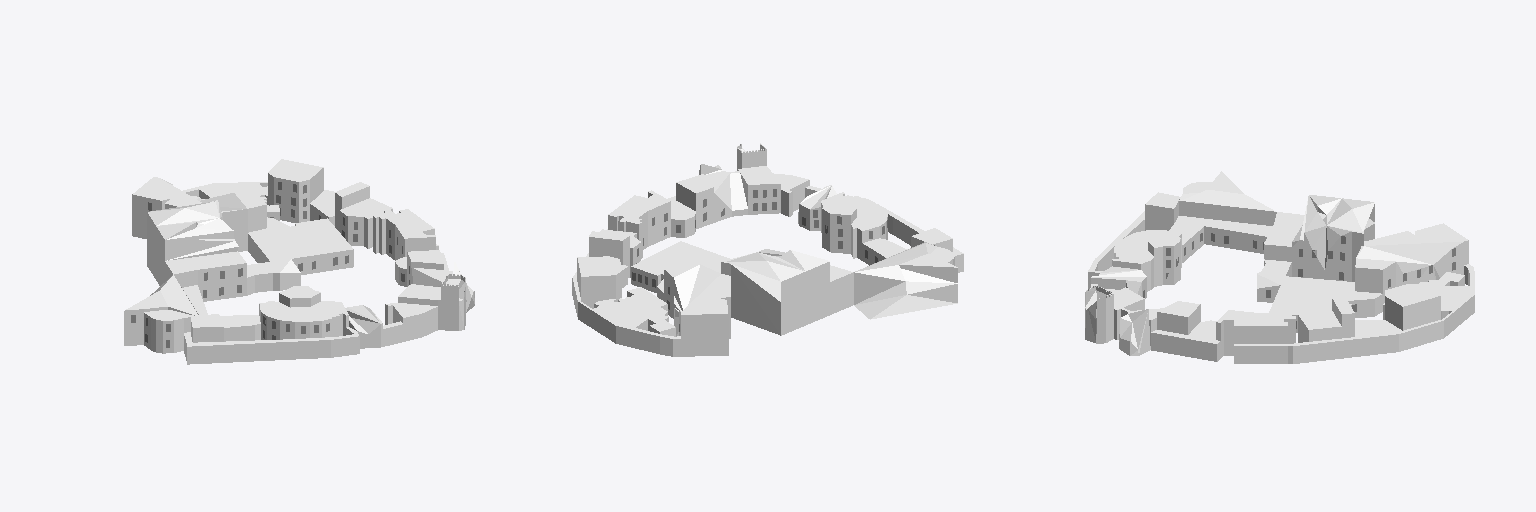
The model's file is castle02.obj.
The picture shows the model from 3 angles: view 1: azimuth 30°, elevation 25°; view 2: azimuth 150°, elevation 25°; view 3: azimuth 270°, elevation 25°; orthographic projection.
Parts seen in each view (by area): view 1: group_0_ID4; view 2: group_0_ID4; view 3: group_0_ID4.
Part boxes in pixels (x1,y1,x2,y2): group_0_ID4: (124,159,474,364); group_0_ID4: (572,143,963,356); group_0_ID4: (1085,171,1474,363).
Bounding box in the file's own units: 97.89 × 17.47 × 103.